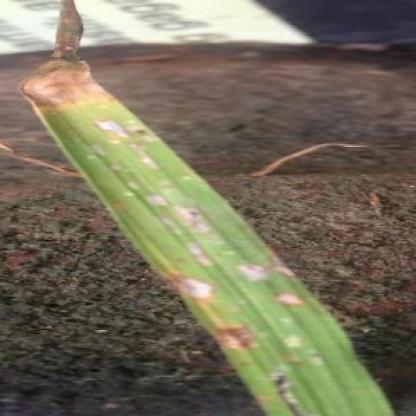Rice blast: (19, 2, 126, 145), (199, 315, 269, 361), (170, 274, 215, 308), (274, 290, 313, 311)
